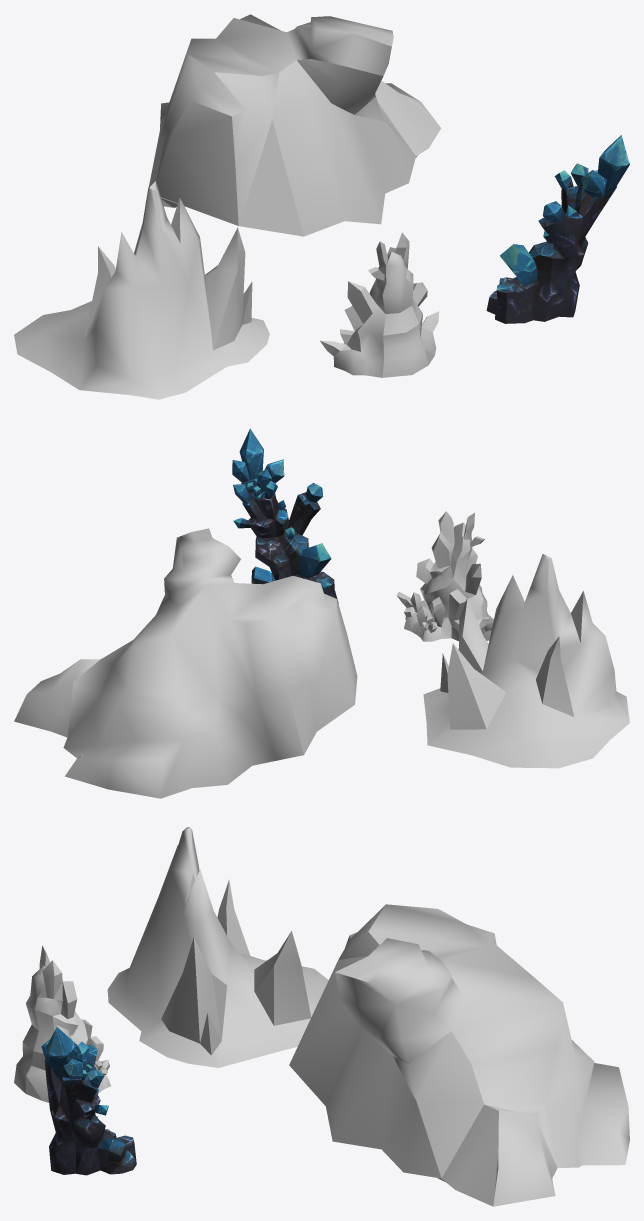
Rendered from stone_stone_A.FBX.
The picture shows the model from 3 angles, top to bottom: view 1: azimuth 30°, elevation 25°; view 2: azimuth 150°, elevation 25°; view 3: azimuth 270°, elevation 25°; orthographic projection. The views are drawn at different scales.
Visible parts, largest first — view 1: stone_stone_A_A, stone_stone_A_B, stone_stone_A_D, stone_stone_A_C; view 2: stone_stone_A_A, stone_stone_A_B, stone_stone_A_D, stone_stone_A_C; view 3: stone_stone_A_A, stone_stone_A_B, stone_stone_A_D, stone_stone_A_C.
Boxes of the visible parts, <box> form: stone_stone_A_A: <box>145,14,441,236</box>; stone_stone_A_B: <box>14,181,269,399</box>; stone_stone_A_D: <box>486,135,629,323</box>; stone_stone_A_C: <box>320,232,439,377</box>; stone_stone_A_A: <box>14,528,357,798</box>; stone_stone_A_B: <box>423,554,629,768</box>; stone_stone_A_D: <box>232,428,338,603</box>; stone_stone_A_C: <box>396,511,493,641</box>; stone_stone_A_A: <box>289,904,629,1206</box>; stone_stone_A_B: <box>107,827,328,1067</box>; stone_stone_A_D: <box>41,1027,136,1175</box>; stone_stone_A_C: <box>14,945,110,1102</box>.
Size of the model in its own units: 5.21 by 5.17 by 1.85.
